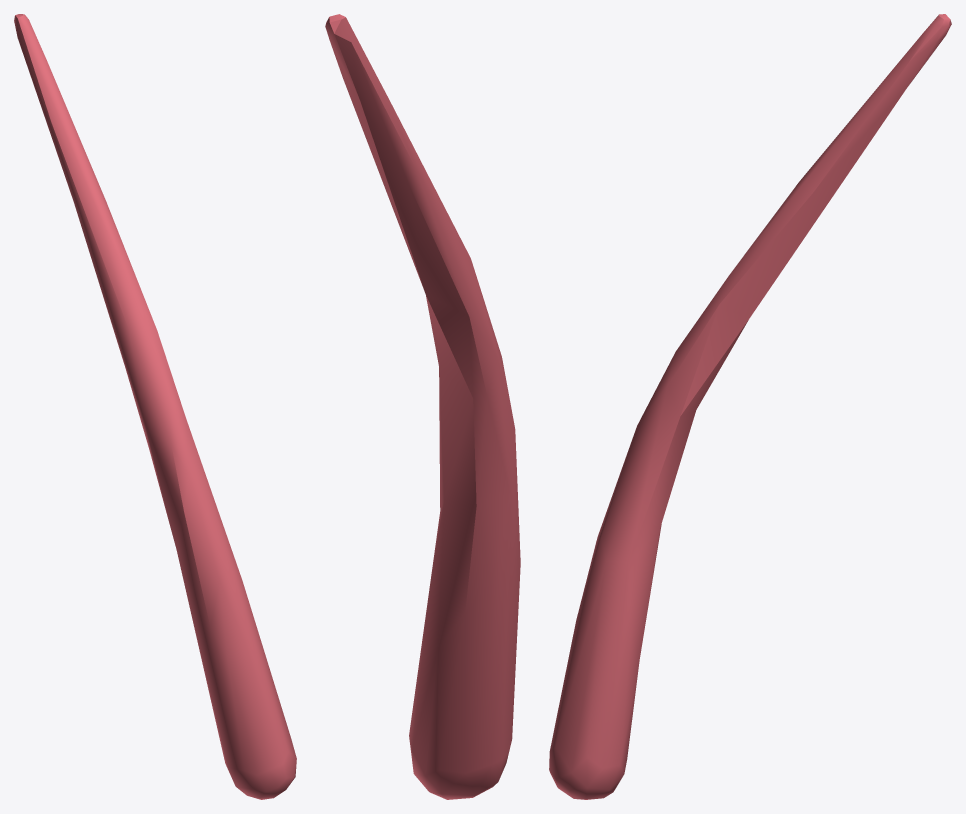
File: fma8634_fj2916.glb
3 views of the same model, side by side, from view 1: azimuth 30°, elevation 25°; view 2: azimuth 150°, elevation 25°; view 3: azimuth 270°, elevation 25° (orthographic). The views are drawn at different scales.
Visible parts, largest first — view 1: FMA8634_FJ2916; view 2: FMA8634_FJ2916; view 3: FMA8634_FJ2916.
Part boxes in pixels (<box>): FMA8634_FJ2916: <box>14,14,296,799</box>; FMA8634_FJ2916: <box>325,14,520,799</box>; FMA8634_FJ2916: <box>549,14,951,799</box>.
Size of the model in its own units: 0.00714 by 0.0404 by 0.0199.
